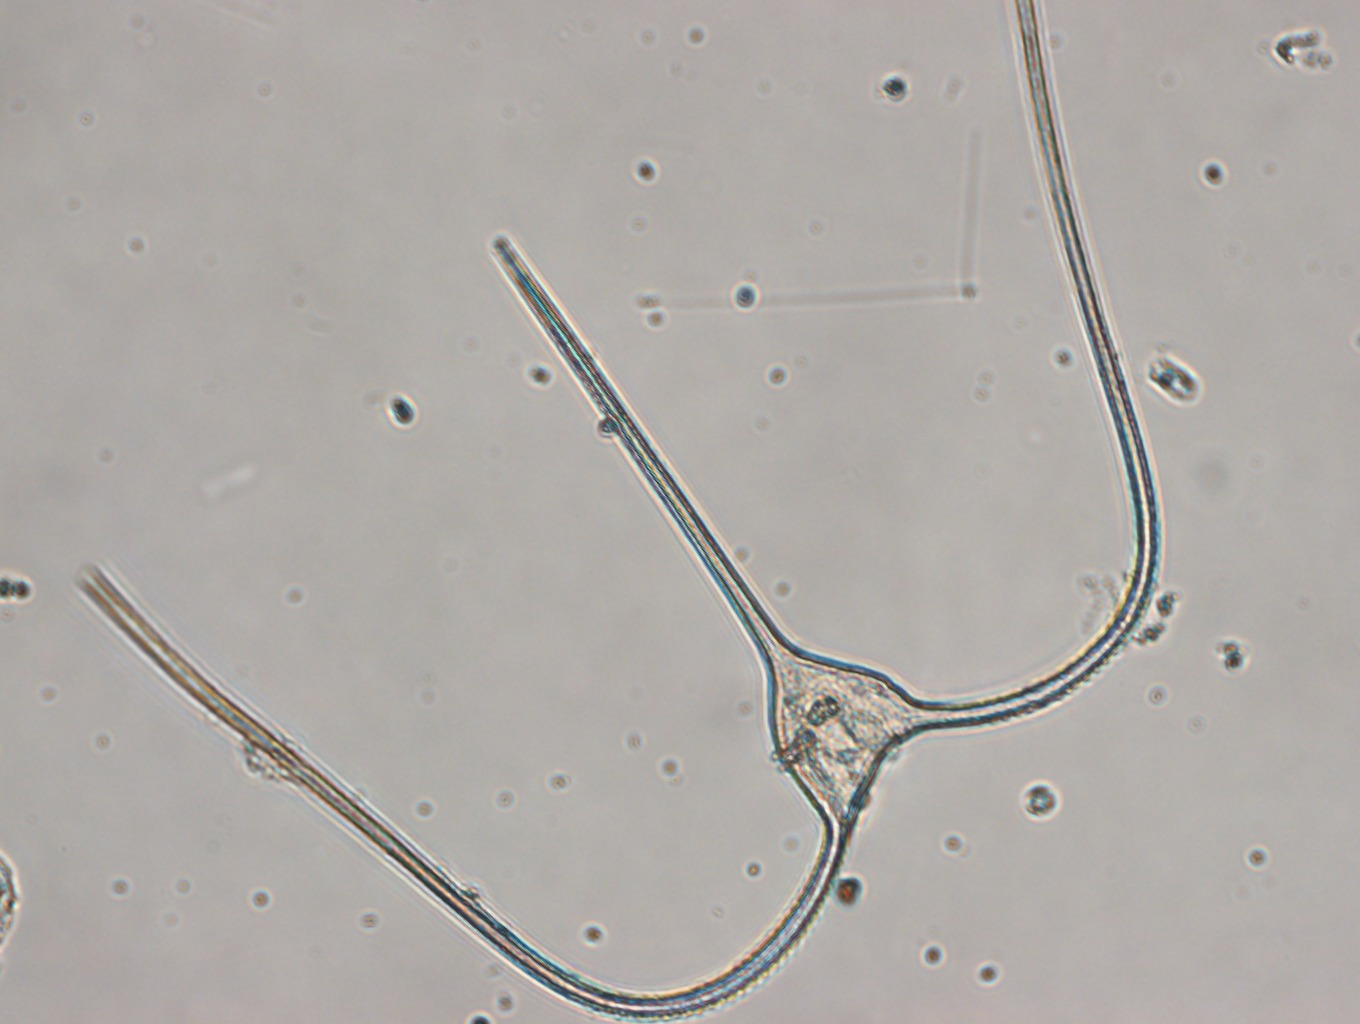ceratium trichoceros: (1, 1, 1165, 1024)
